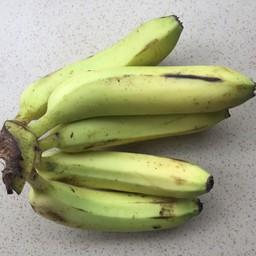Good_banana: (14, 8, 256, 238), (41, 145, 209, 235), (35, 172, 204, 239), (46, 65, 256, 117), (46, 143, 213, 198)
